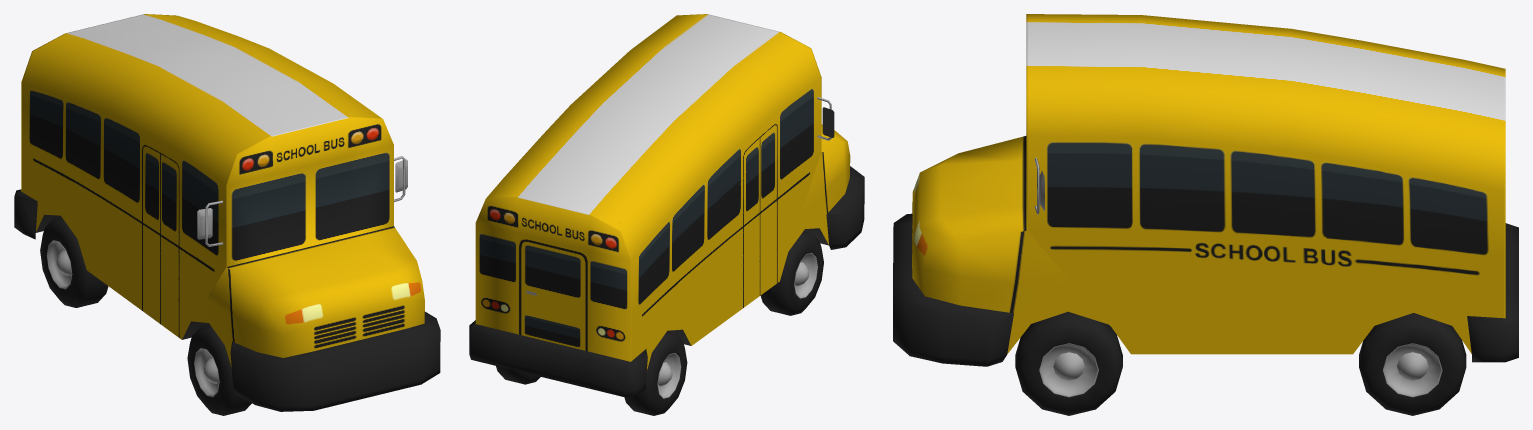
File: School Bus01.FBX
3 views of the same model, side by side, from view 1: azimuth 30°, elevation 25°; view 2: azimuth 150°, elevation 25°; view 3: azimuth 270°, elevation 25° (orthographic). The views are drawn at different scales.
Visible parts, largest first — view 1: Bus01; view 2: Bus01; view 3: Bus01.
Boxes of the visible parts, left/top/right/bottom form: Bus01: left=14, top=14, right=440, bottom=415; Bus01: left=469, top=14, right=864, bottom=415; Bus01: left=893, top=14, right=1518, bottom=415.
Size of the model in its own units: 32.45 by 71.62 by 41.19.
1 material, 1 textured.
